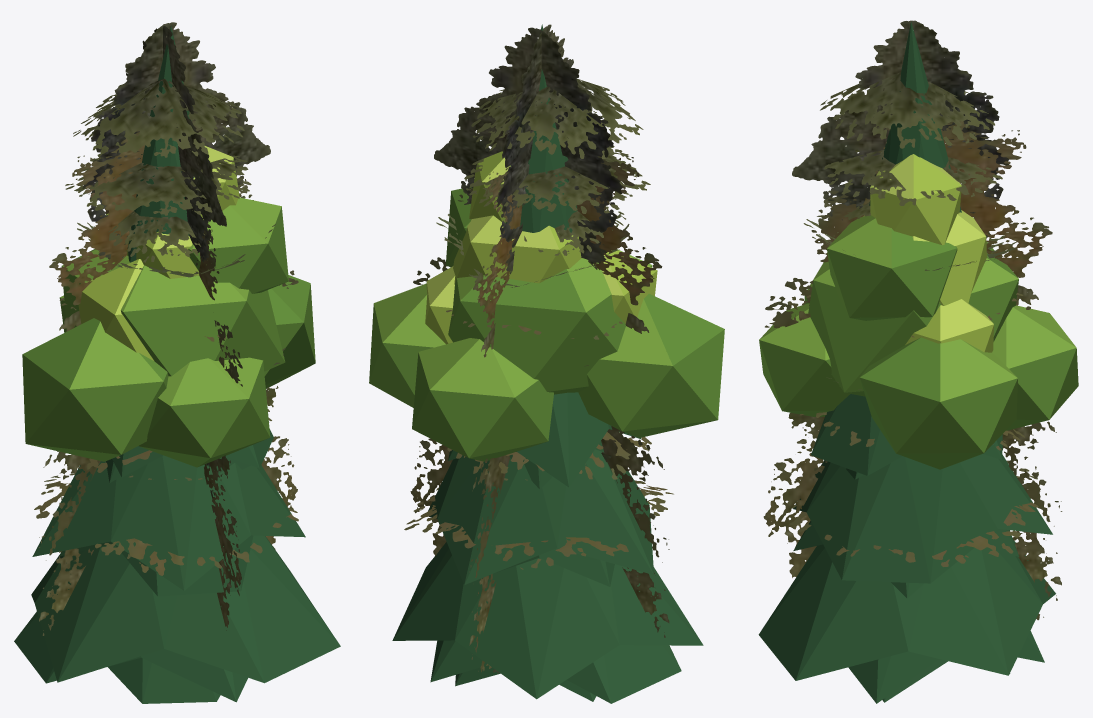
File: tree.glb
3 views of the same model, side by side, from view 1: azimuth 30°, elevation 25°; view 2: azimuth 150°, elevation 25°; view 3: azimuth 270°, elevation 25° (orthographic).
Parts seen in each view (by area): view 1: tree_variant_0, tree_variant_4, tree_variant_10, tree_variant_9, tree_variant_6, tree_variant_1, tree_variant_3, tree_variant_2; view 2: tree_variant_4, tree_variant_0, tree_variant_10, tree_variant_9, tree_variant_3, tree_variant_1, tree_variant_6, tree_variant_2; view 3: tree_variant_0, tree_variant_4, tree_variant_10, tree_variant_3, tree_variant_9, tree_variant_6, tree_variant_1.
Boxes of the visible parts, <box> form: tree_variant_0: <box>31,25,340,683</box>; tree_variant_4: <box>22,197,315,467</box>; tree_variant_10: <box>65,22,270,265</box>; tree_variant_9: <box>34,298,298,635</box>; tree_variant_6: <box>49,96,298,507</box>; tree_variant_1: <box>14,456,253,702</box>; tree_variant_3: <box>78,146,239,360</box>; tree_variant_2: <box>108,657,220,703</box>; tree_variant_4: <box>369,187,724,461</box>; tree_variant_0: <box>392,24,703,699</box>; tree_variant_10: <box>434,24,650,271</box>; tree_variant_9: <box>404,260,673,672</box>; tree_variant_3: <box>425,151,657,344</box>; tree_variant_1: <box>430,441,681,703</box>; tree_variant_6: <box>413,156,662,366</box>; tree_variant_2: <box>455,665,596,701</box>; tree_variant_0: <box>758,21,1055,680</box>; tree_variant_4: <box>759,215,1078,469</box>; tree_variant_10: <box>792,20,1009,237</box>; tree_variant_3: <box>863,154,993,352</box>; tree_variant_9: <box>763,285,1062,620</box>; tree_variant_6: <box>765,114,1052,470</box>; tree_variant_1: <box>793,468,1044,703</box>.
Size of the model in its own units: 0.1646 by 0.32 by 0.1475.
Materials: 11 (1 with a texture image).
